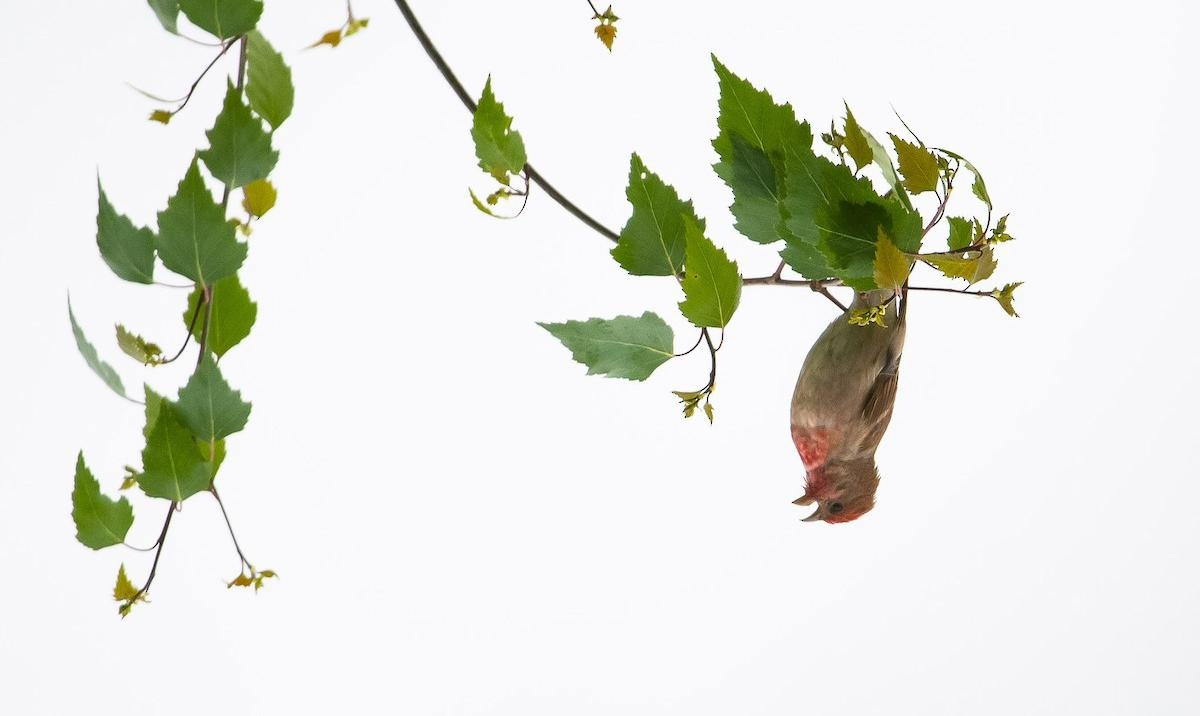rosefinch: (785, 295, 958, 542)
